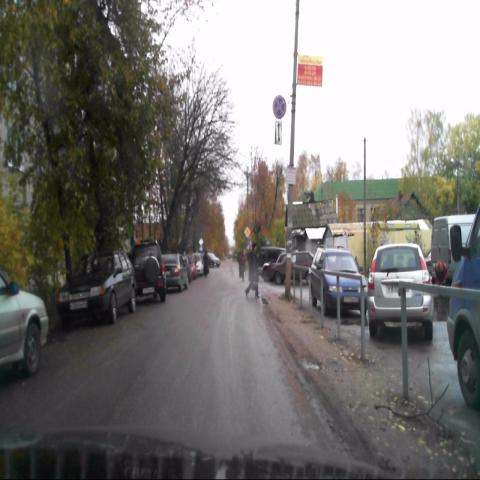3_27: (272, 95, 286, 119)
